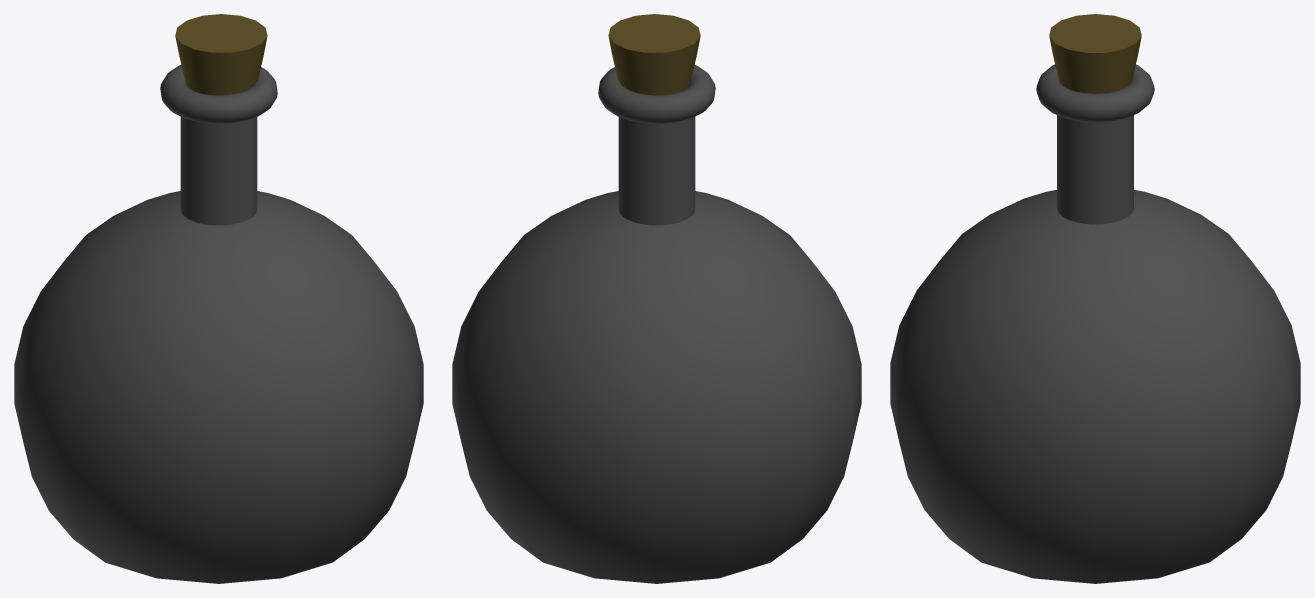
The model's file is CurseOfBottle.fbx.
3 views of the same model, side by side, from view 1: azimuth 30°, elevation 25°; view 2: azimuth 150°, elevation 25°; view 3: azimuth 270°, elevation 25° (orthographic).
Parts seen in each view (by area): view 1: pasted__pSphere32; view 2: pasted__pSphere32; view 3: pasted__pSphere32.
Part boxes in pixels (<box>): pasted__pSphere32: <box>14,14,423,583</box>; pasted__pSphere32: <box>452,14,861,583</box>; pasted__pSphere32: <box>890,14,1300,583</box>.
Size of the model in its own units: 3.8 by 5 by 3.82.
